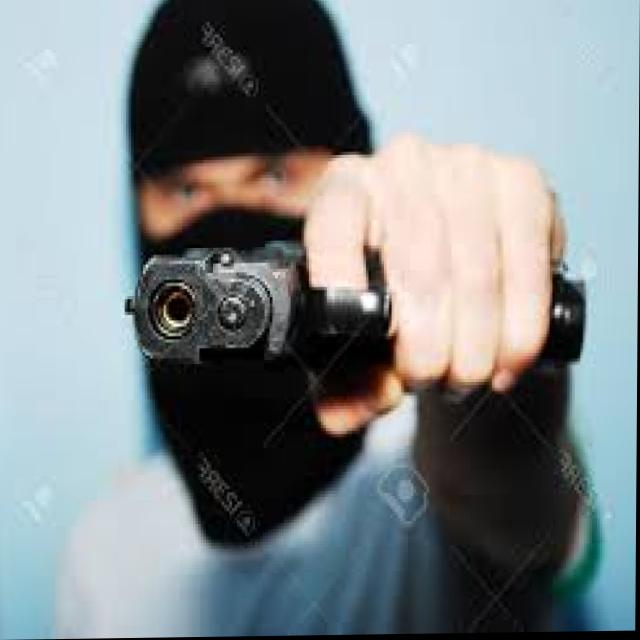handgun: (122, 238, 584, 394)
